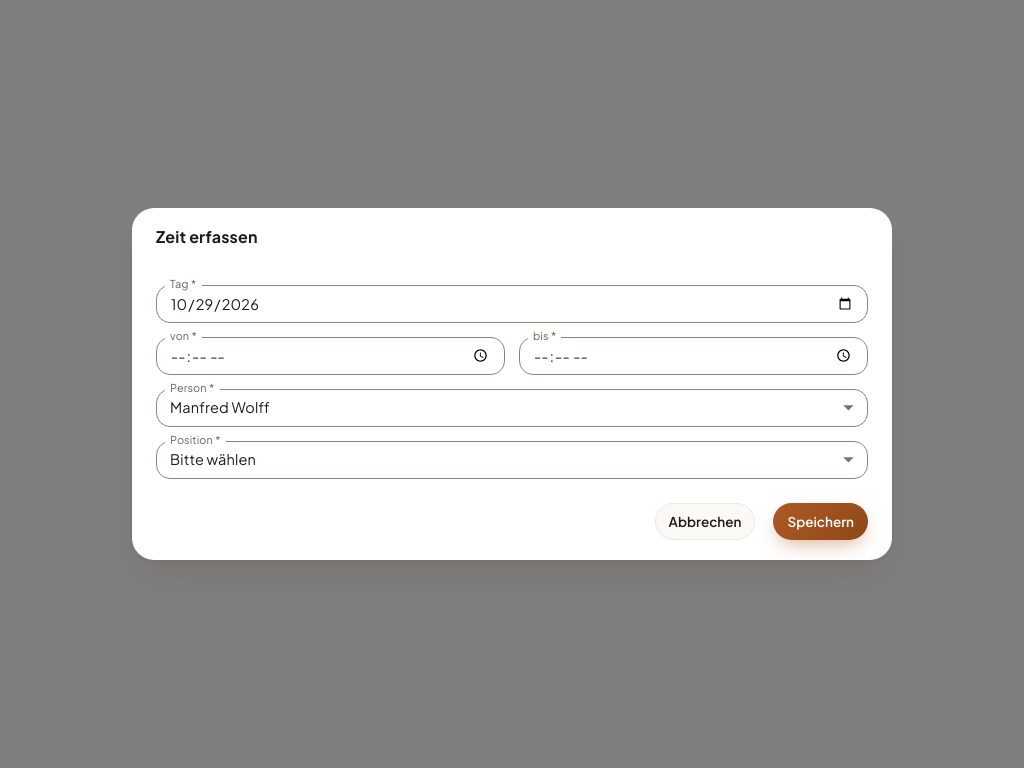
ZeiteintragMaske — Erfassen (Kriterium 1, A16) › sperrt Speichern und Abbrechen, solange die Anfrage laeuft
Type "09:00" into the time field labelled "von *".
click(330, 356); type("09:00")  # box [156,337,505,375]
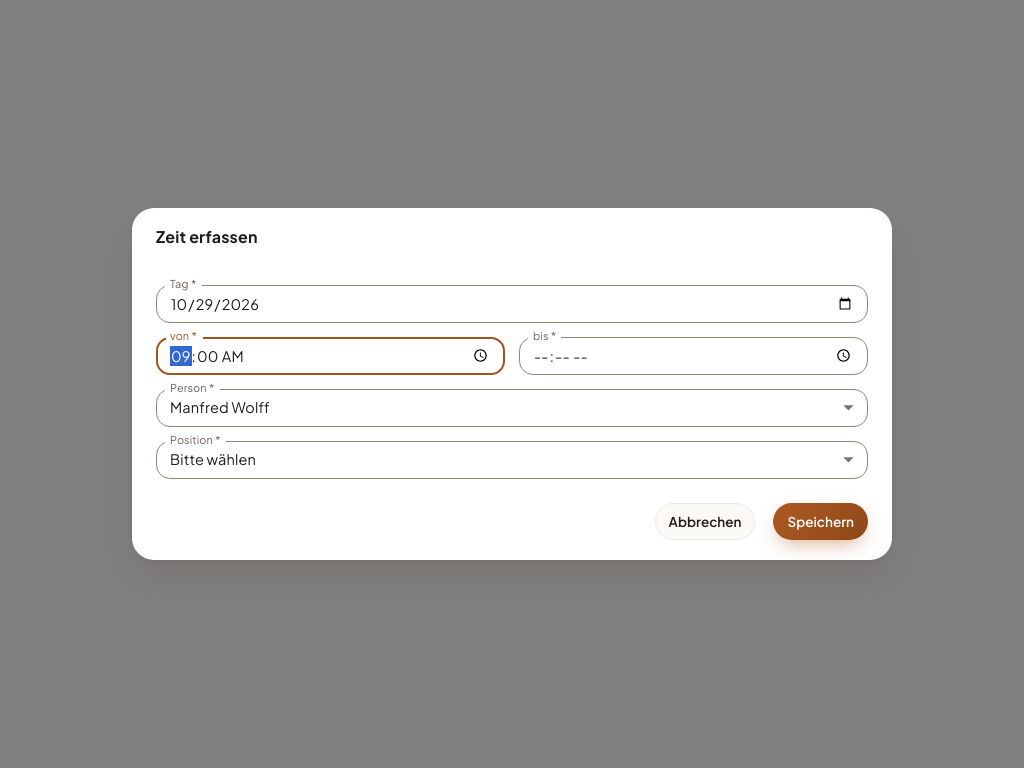
Type "10:45" into the time field labelled "bis *".
click(694, 356); type("10:45")  # box [519,337,868,375]
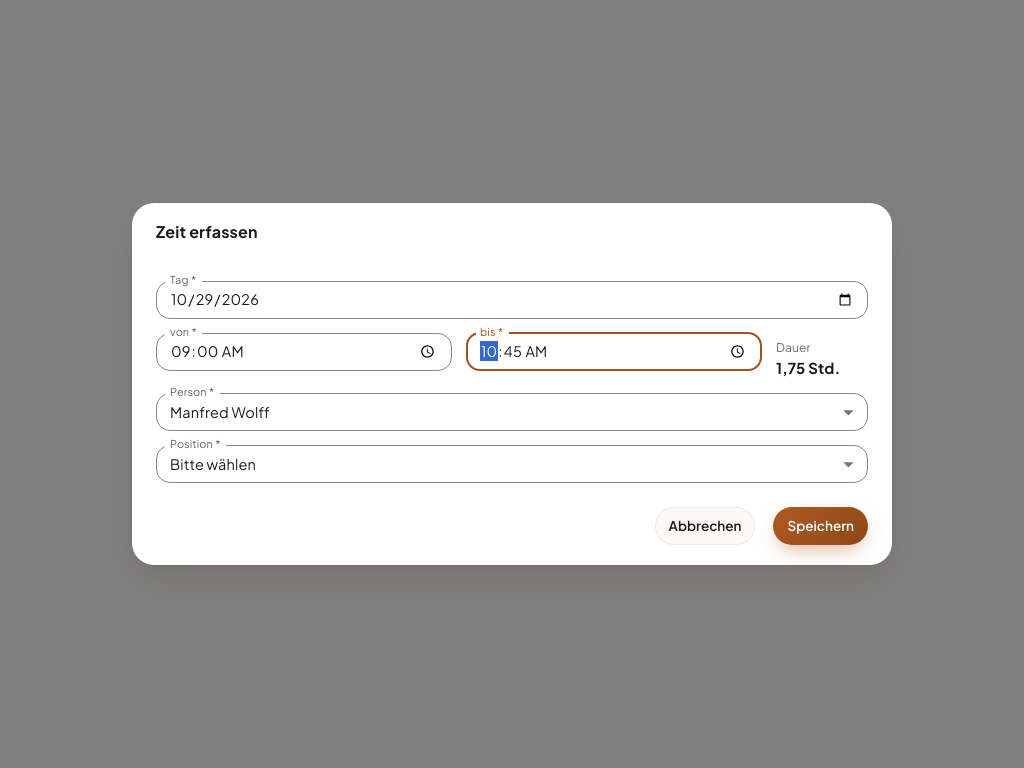
Select "Konzeption" in the dropdown labelled "Position" at (512, 464), box [156,445,868,483]
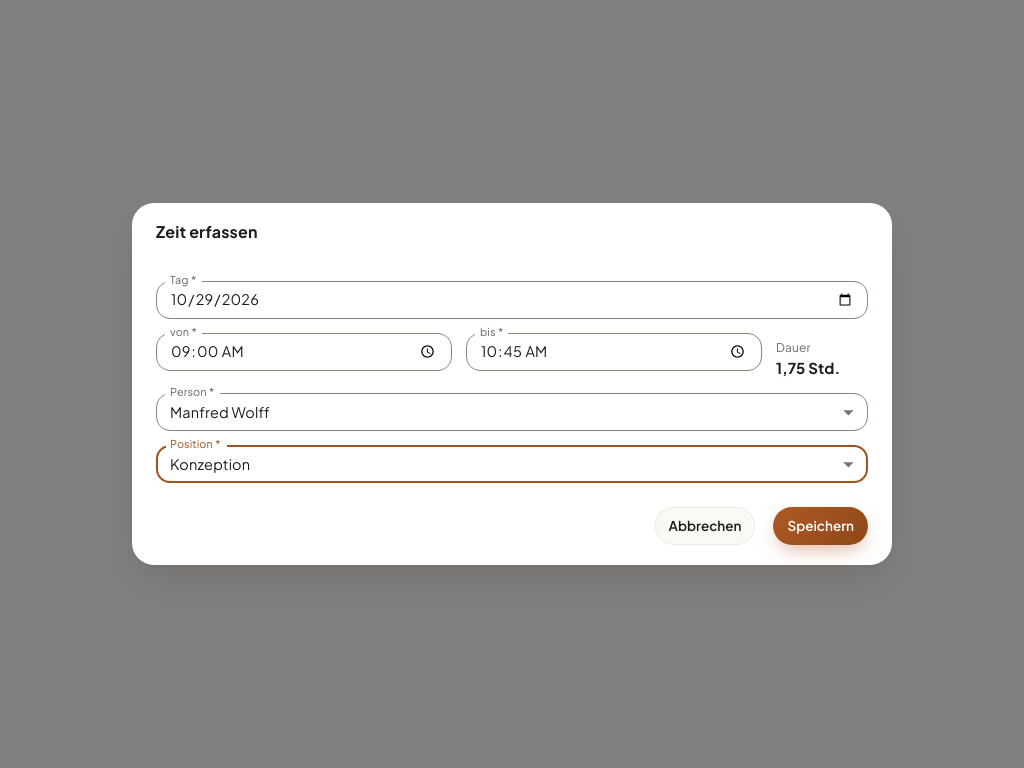
Click the button "Speichern".
click(821, 526)  # box [774,507,868,545]
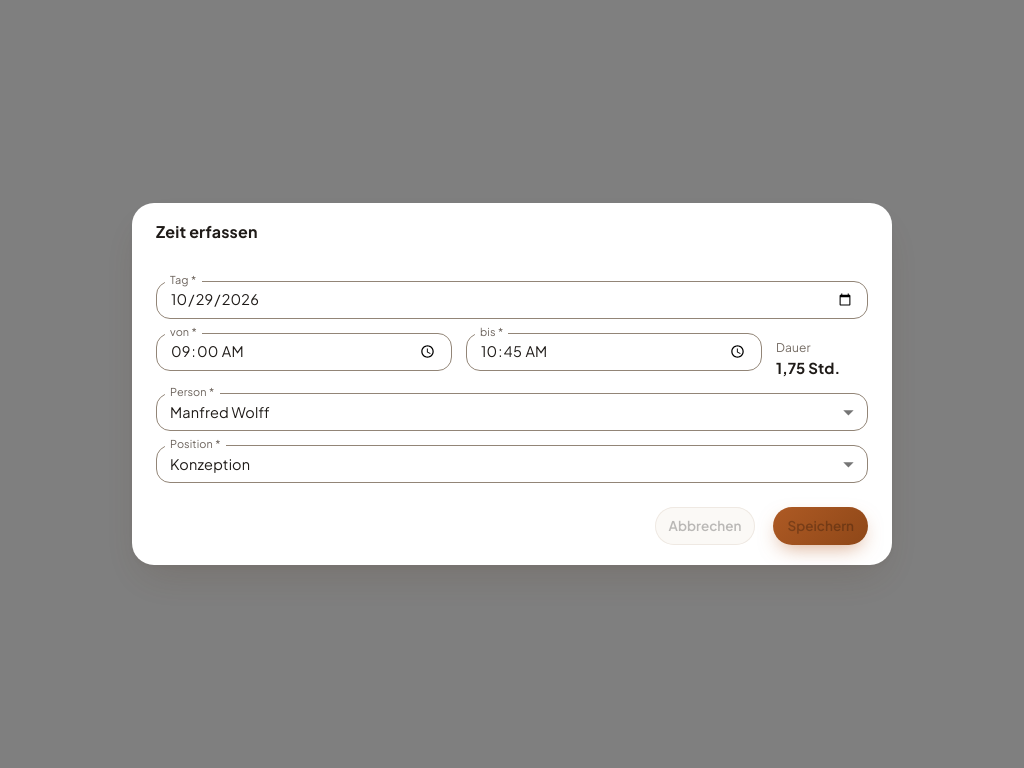
Expected: the button "Speichern" is disabled, [774,507,868,545]
Expected: the button "Abbrechen" is disabled, [655,507,756,545]
